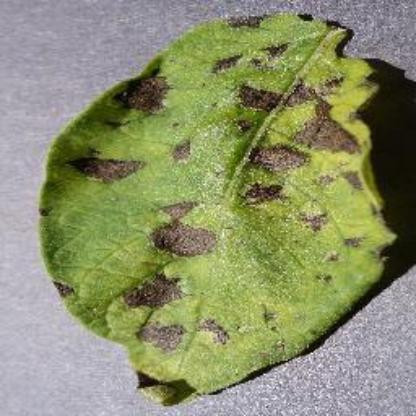Early-Blight: (36, 10, 398, 404)
